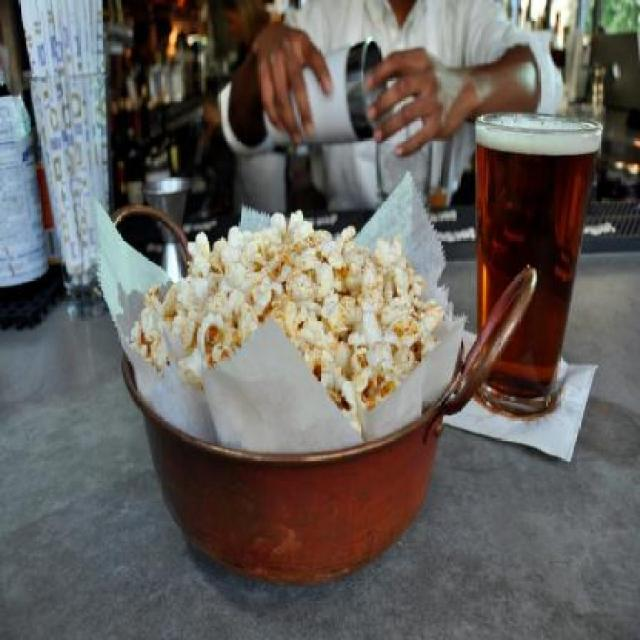Popcorn: (132, 210, 448, 433)
